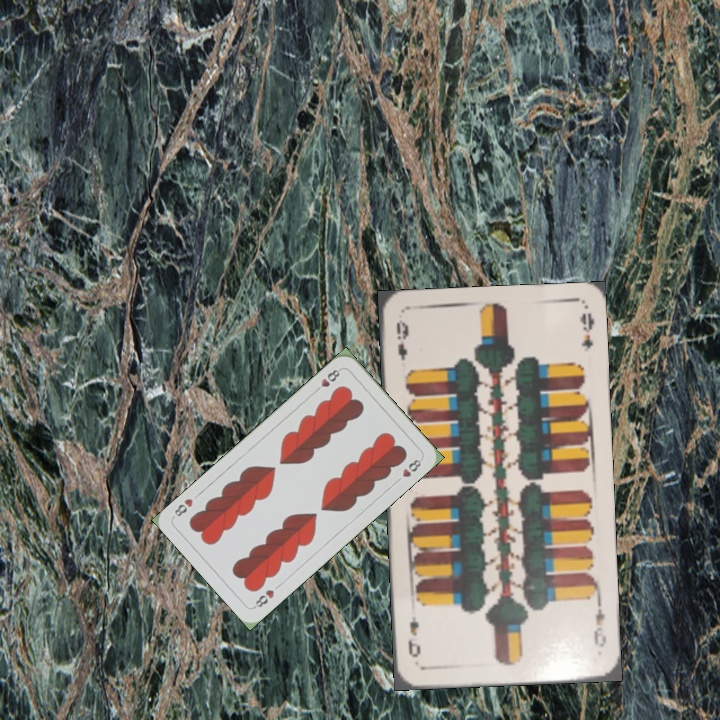E9: (590, 596, 609, 650), (392, 315, 411, 364)
H8: (310, 365, 344, 395), (250, 585, 277, 611)
